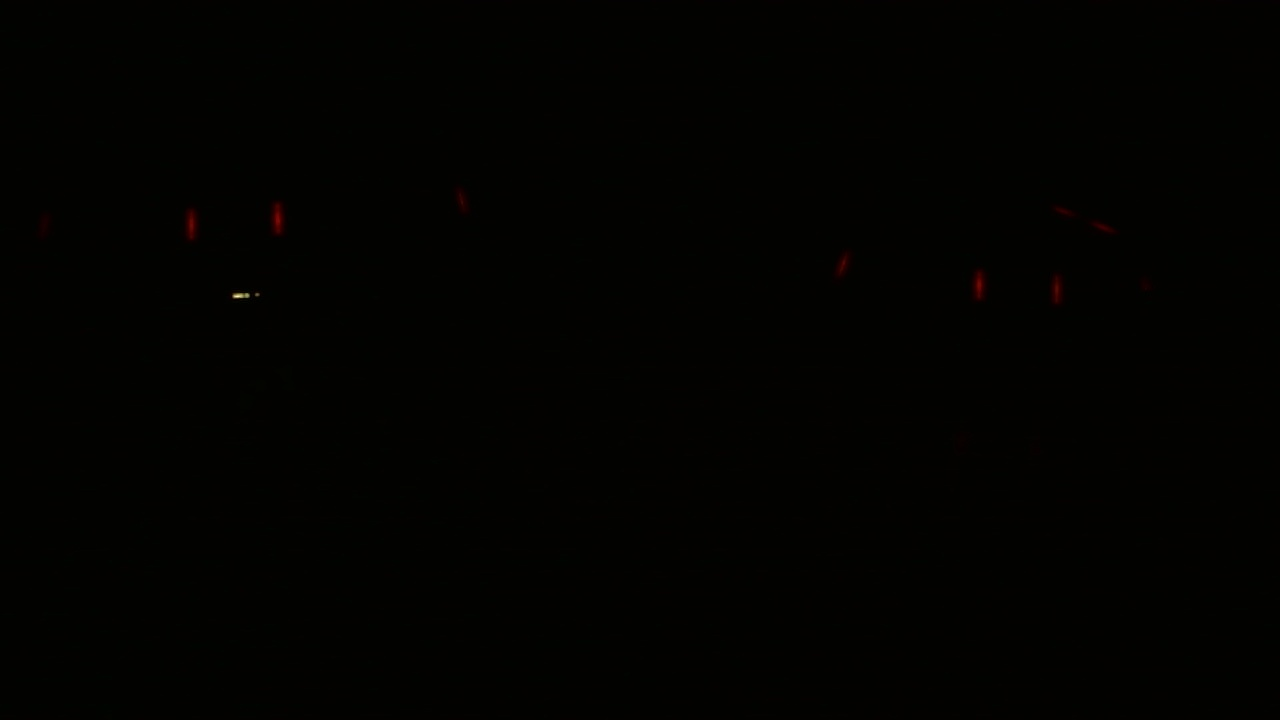pair1: (180, 203, 281, 238), (971, 266, 1065, 303)
